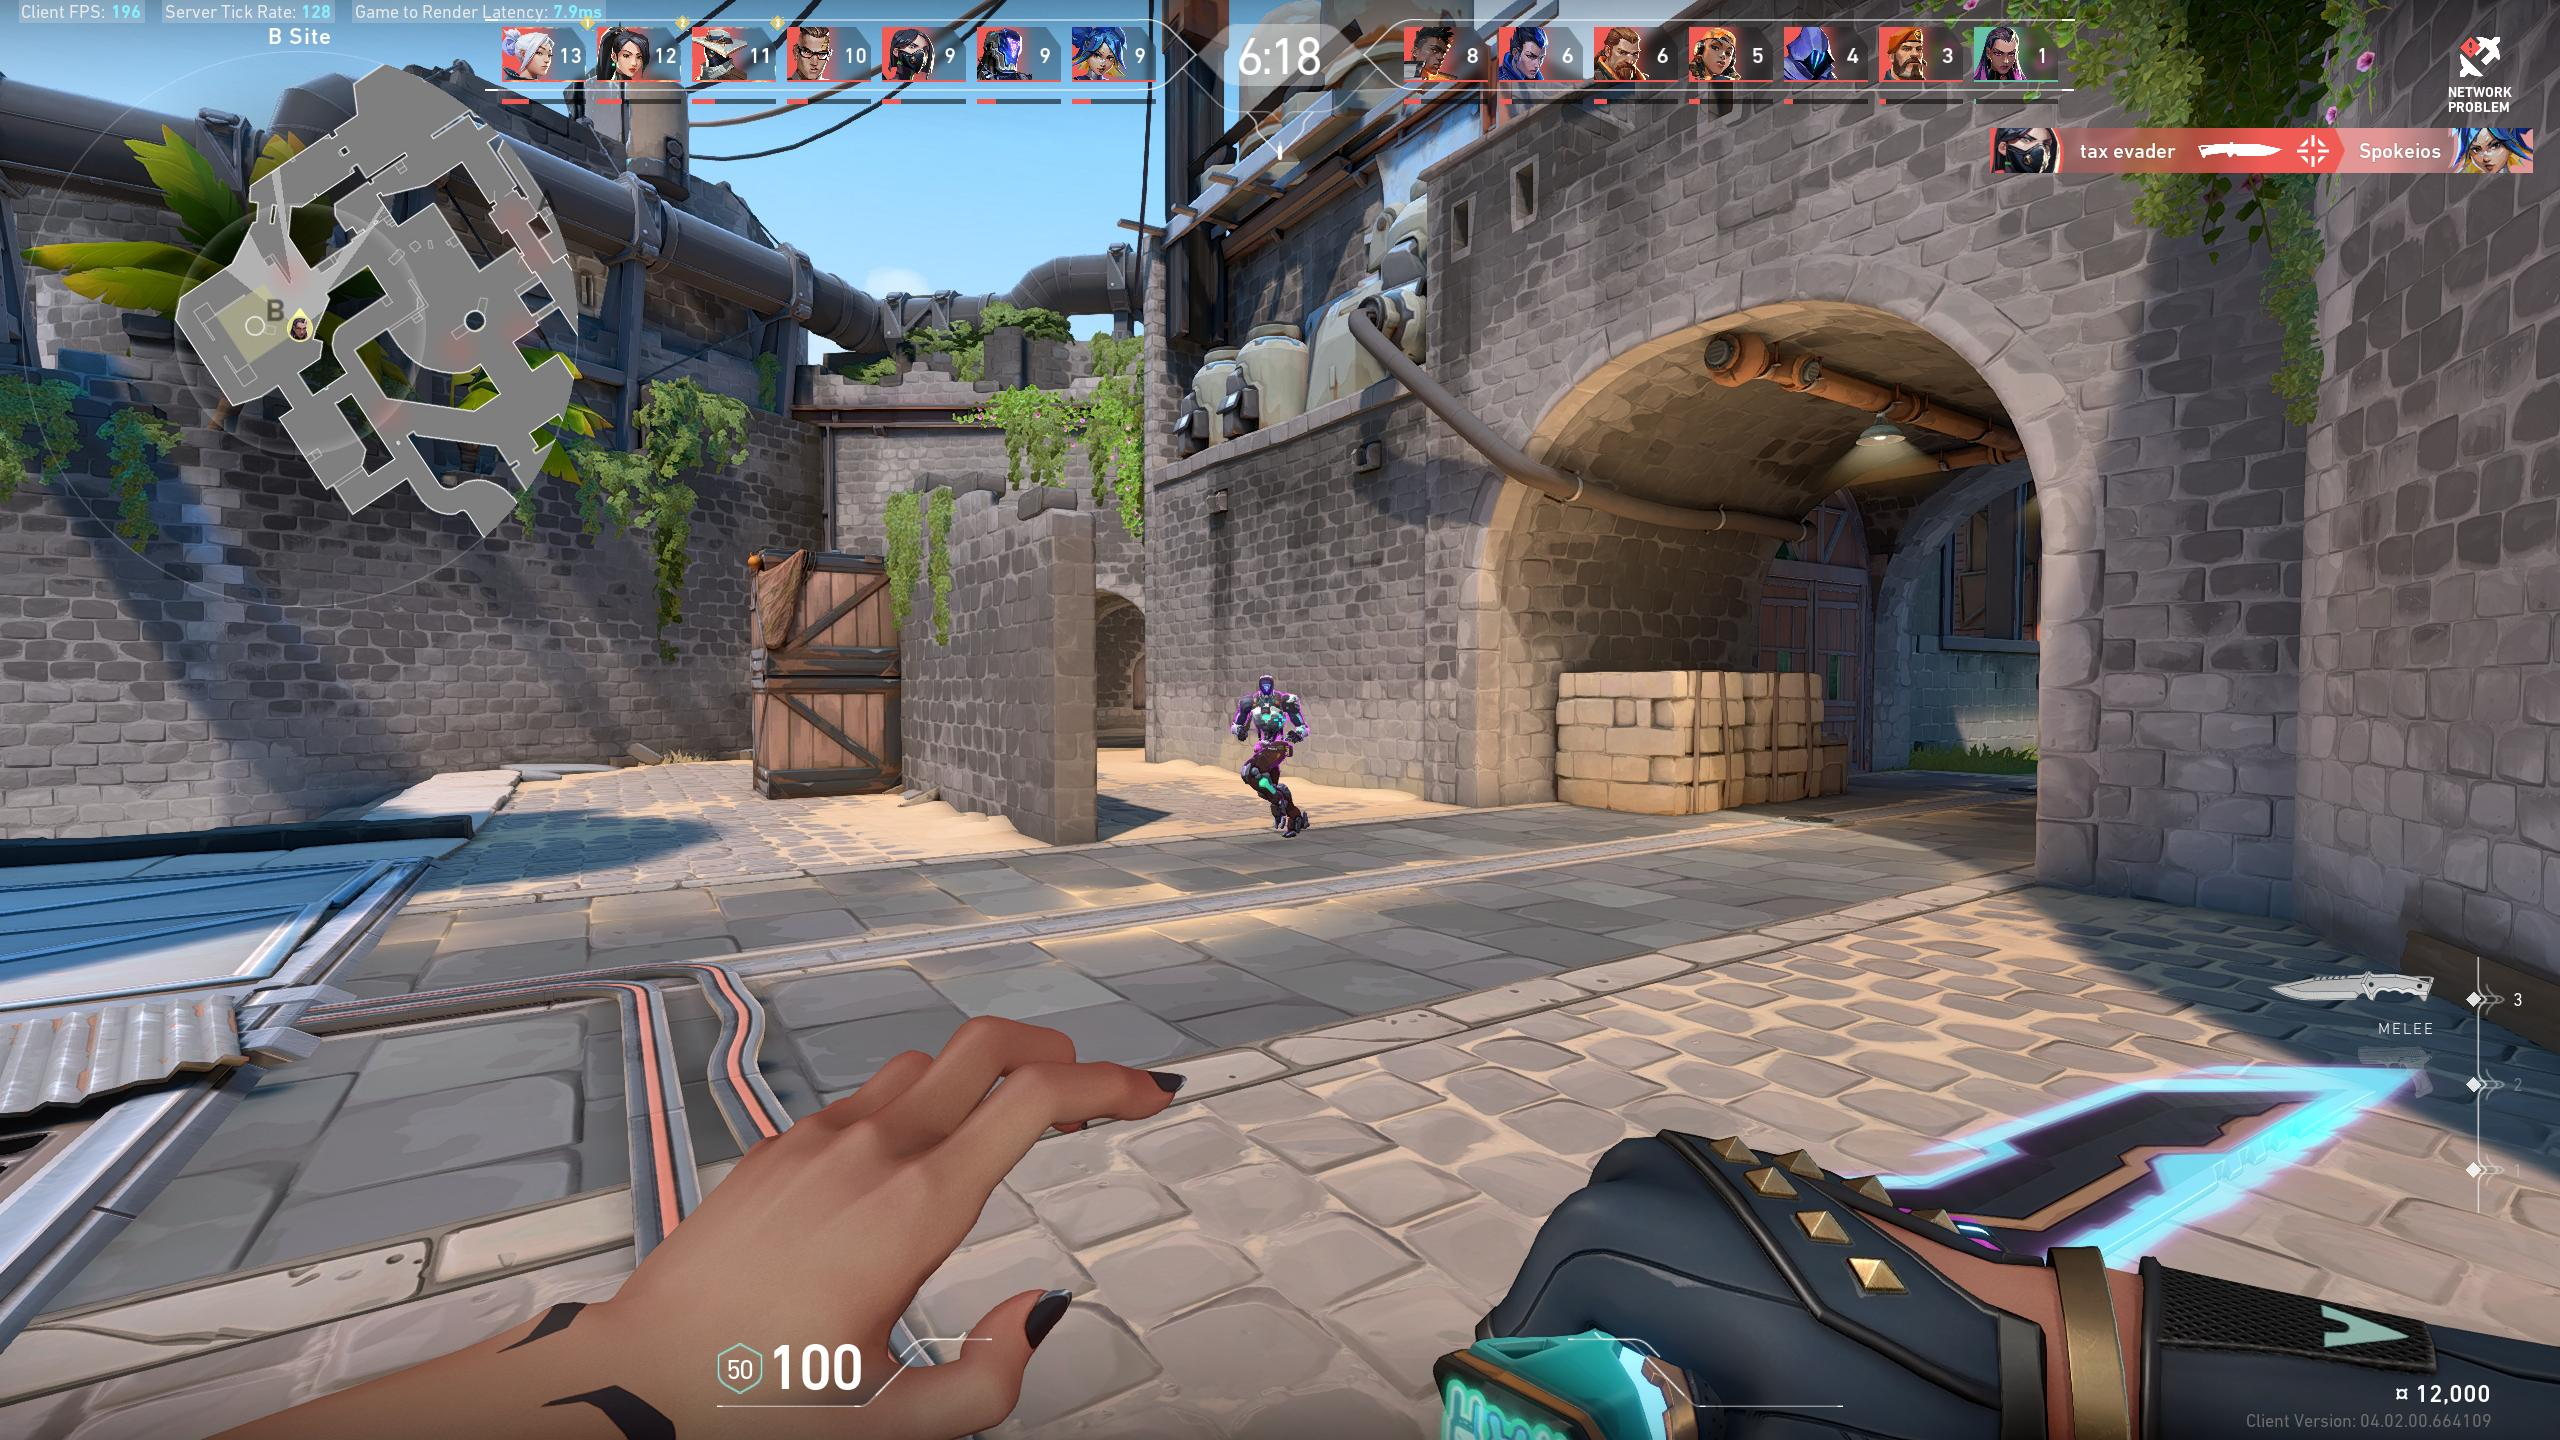enemyBody: (1259, 696, 1276, 737)
enemyHead: (1261, 679, 1271, 695)
